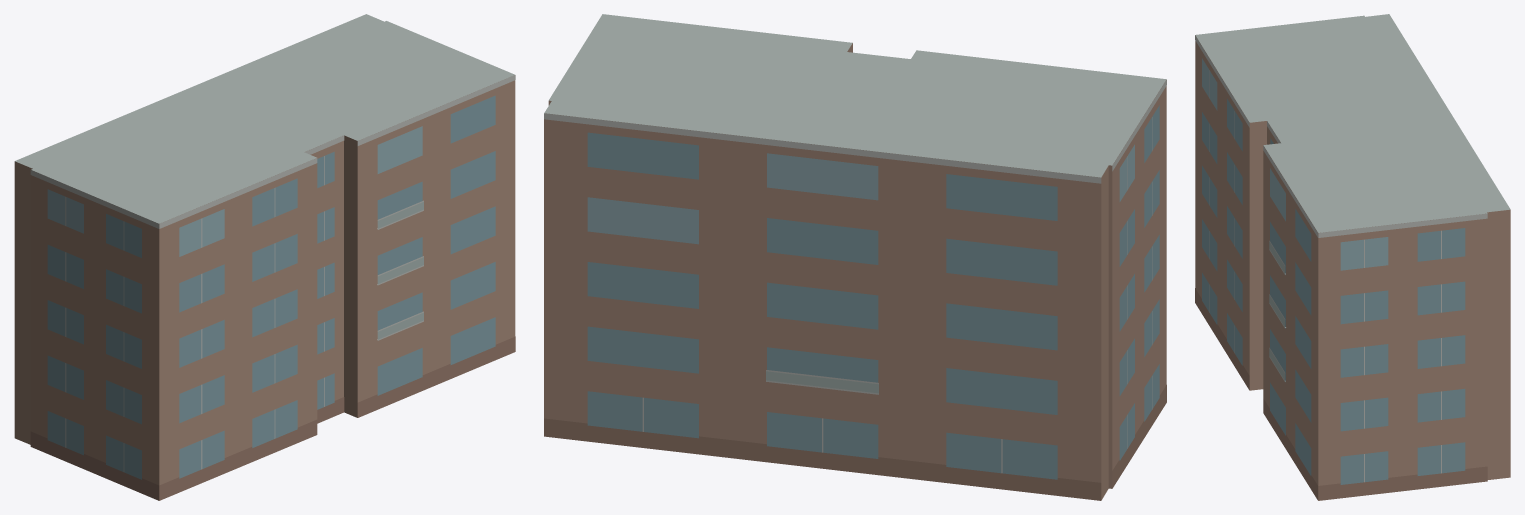
The model's file is survey-upis-32654534.glb.
The picture shows the model from 3 angles, left to right: view 1: azimuth 30°, elevation 25°; view 2: azimuth 150°, elevation 25°; view 3: azimuth 270°, elevation 25°; orthographic projection. The views are drawn at different scales.
Visible parts, largest first — view 1: survey-upis-32654534.tmp; view 2: survey-upis-32654534.tmp; view 3: survey-upis-32654534.tmp.
Part boxes in pixels (bbox=[...]): survey-upis-32654534.tmp: bbox=[14, 14, 515, 500]; survey-upis-32654534.tmp: bbox=[544, 14, 1166, 500]; survey-upis-32654534.tmp: bbox=[1195, 14, 1510, 500].
Size of the model in its own units: 22.45 by 12.8 by 13.68.
